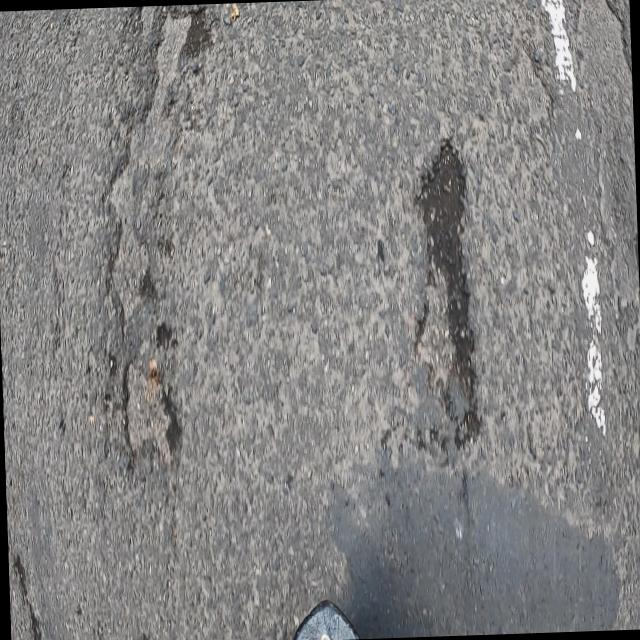Lubang: (111, 11, 213, 355), (416, 140, 479, 448), (125, 359, 180, 465)
